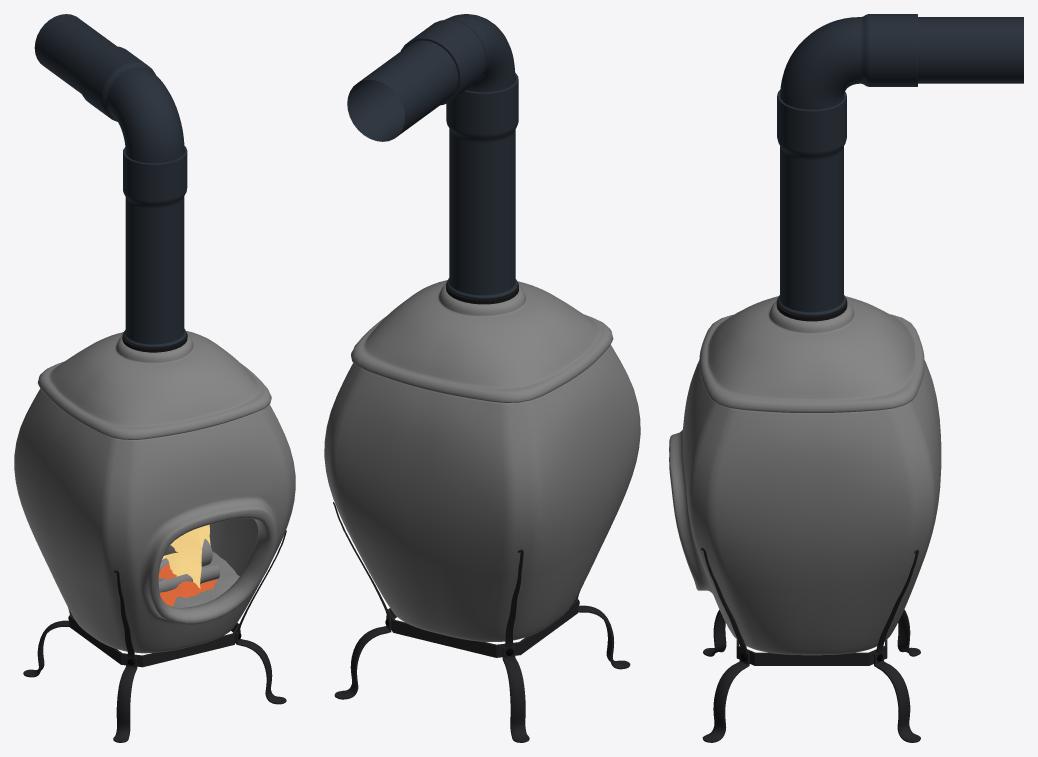
The picture shows the model from 3 angles, left to right: view 1: azimuth 30°, elevation 25°; view 2: azimuth 150°, elevation 25°; view 3: azimuth 270°, elevation 25°; orthographic projection. The views are drawn at different scales.
Parts seen in each view (by area): view 1: AM97_058_obj_005, AM97_058_obj_009, AM97_058_obj_004, AM97_058_obj_003, AM97_058_obj_012, AM97_058_obj_010, AM97_058_obj_002, AM97_058_obj_015; view 2: AM97_058_obj_005, AM97_058_obj_009, AM97_058_obj_004, AM97_058_obj_003; view 3: AM97_058_obj_005, AM97_058_obj_009, AM97_058_obj_004, AM97_058_obj_003.
Boxes of the visible parts, box(x1,y1,x2,y2) form: AM97_058_obj_005: box(14, 388, 295, 653); AM97_058_obj_009: box(34, 14, 187, 347); AM97_058_obj_004: box(37, 331, 271, 439); AM97_058_obj_003: box(23, 530, 286, 742); AM97_058_obj_012: box(166, 528, 201, 588); AM97_058_obj_010: box(173, 551, 239, 607); AM97_058_obj_002: box(158, 564, 217, 606); AM97_058_obj_015: box(158, 564, 219, 592); AM97_058_obj_005: box(324, 345, 640, 641); AM97_058_obj_009: box(347, 14, 518, 299); AM97_058_obj_004: box(351, 280, 613, 402); AM97_058_obj_003: box(333, 502, 630, 742); AM97_058_obj_005: box(669, 360, 941, 655); AM97_058_obj_009: box(777, 14, 1023, 316); AM97_058_obj_004: box(699, 296, 924, 412); AM97_058_obj_003: box(701, 548, 920, 742).
Size of the model in its own units: 20.24 by 57.66 by 27.31.
